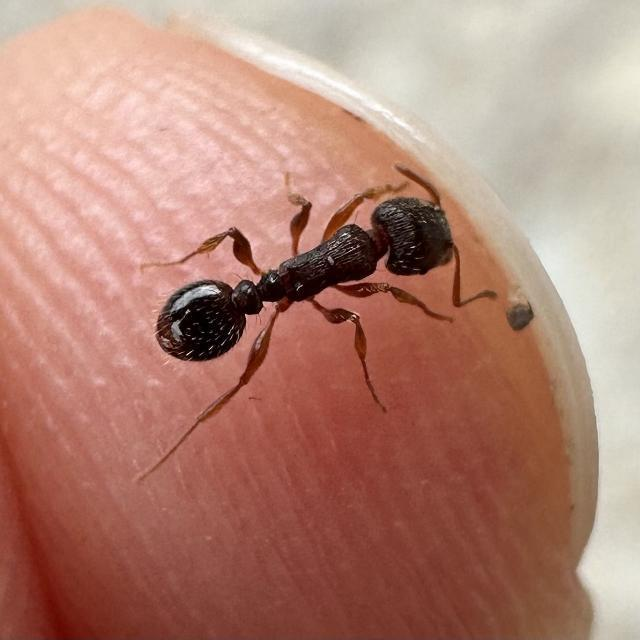Tetramorium: (108, 110, 518, 430)
